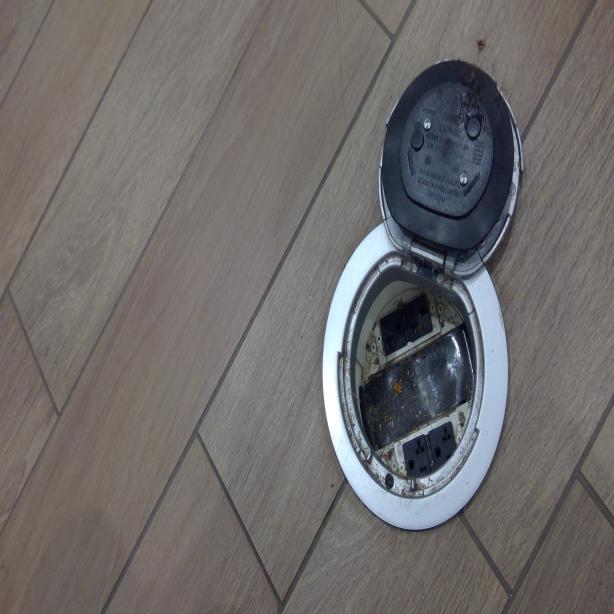typeb: (402, 440, 429, 478), (433, 419, 454, 466), (379, 312, 404, 350), (406, 301, 431, 336)
